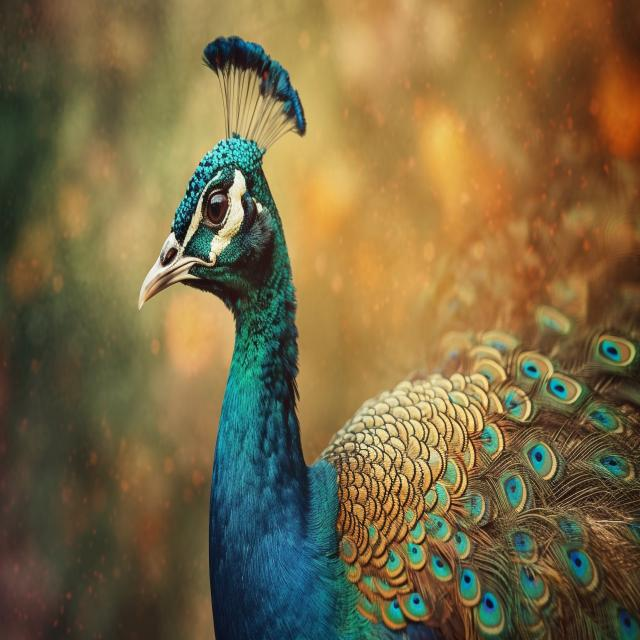peacock: (124, 28, 640, 639)
